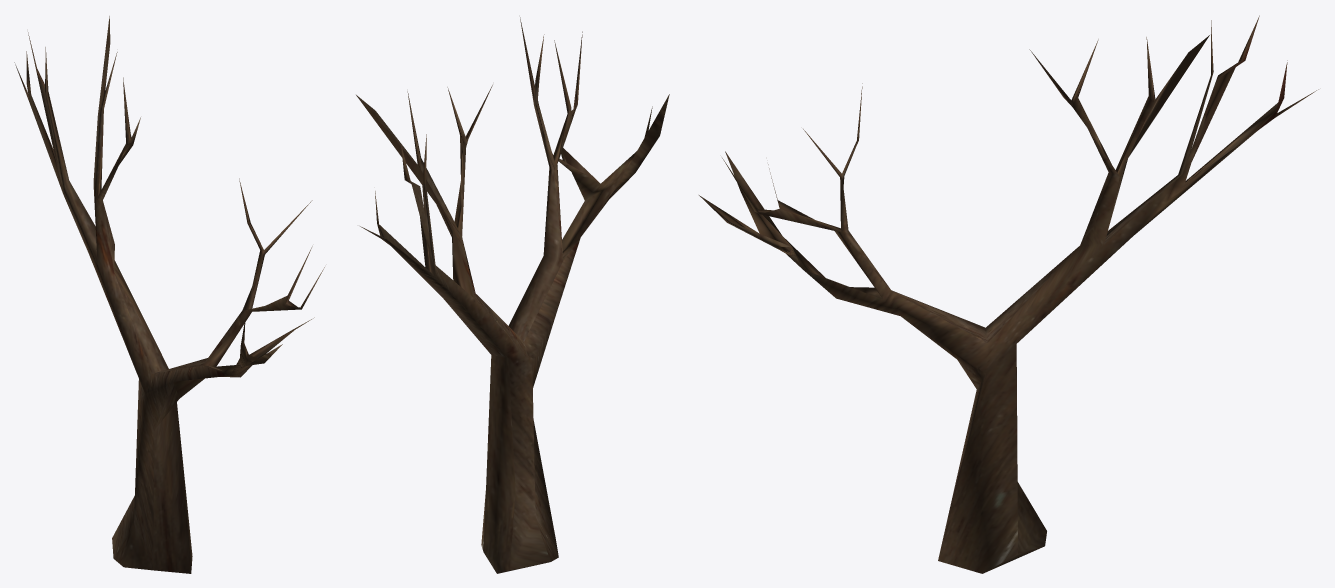
Rendered from Tree_Cherry_03.fbx.
The picture shows the model from 3 angles, left to right: view 1: azimuth 30°, elevation 25°; view 2: azimuth 150°, elevation 25°; view 3: azimuth 270°, elevation 25°; orthographic projection. The views are drawn at different scales.
Parts seen in each view (by area): view 1: Tree_01; view 2: Tree_01; view 3: Tree_01.
Part boxes in pixels (box(x1,y1,x2,y2)): Tree_01: box(14, 16, 324, 573); Tree_01: box(356, 17, 669, 573); Tree_01: box(699, 15, 1318, 573).
Size of the model in its own units: 97.73 by 383 by 395.
